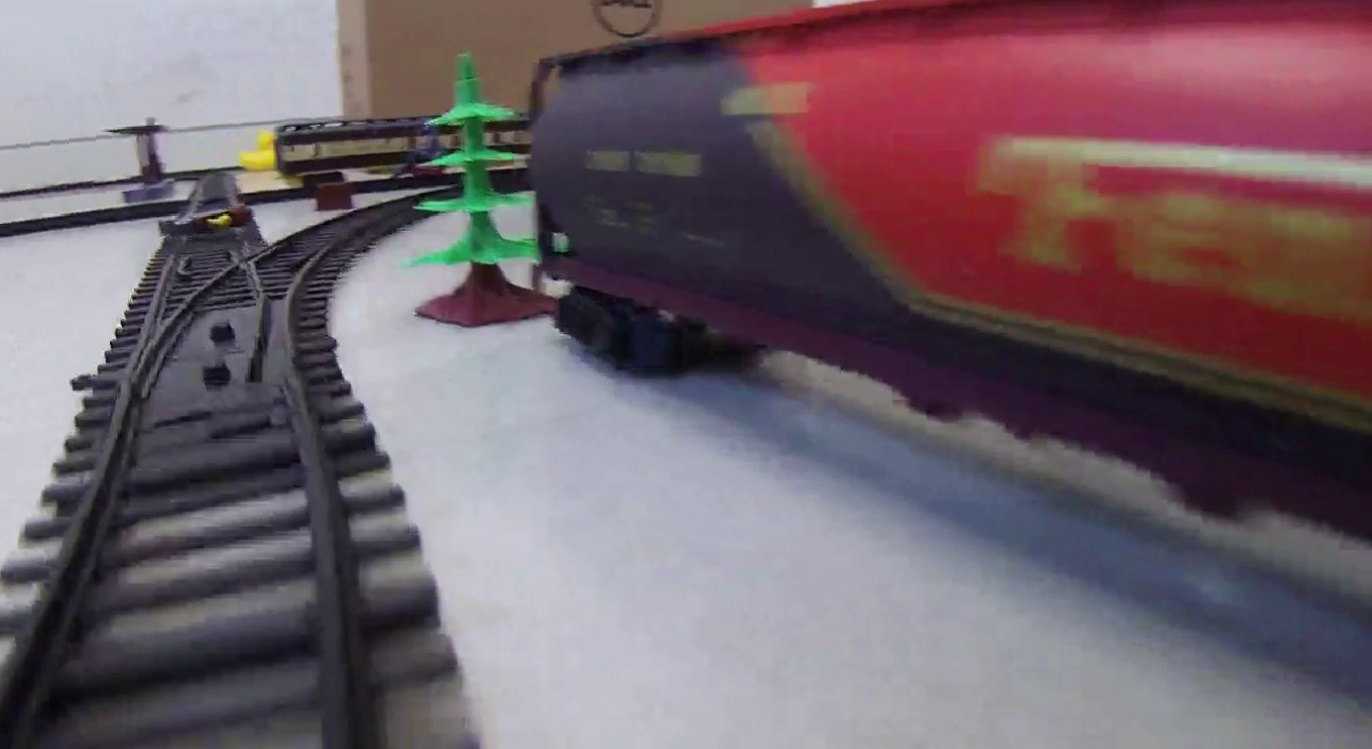tree: (408, 51, 542, 329)
